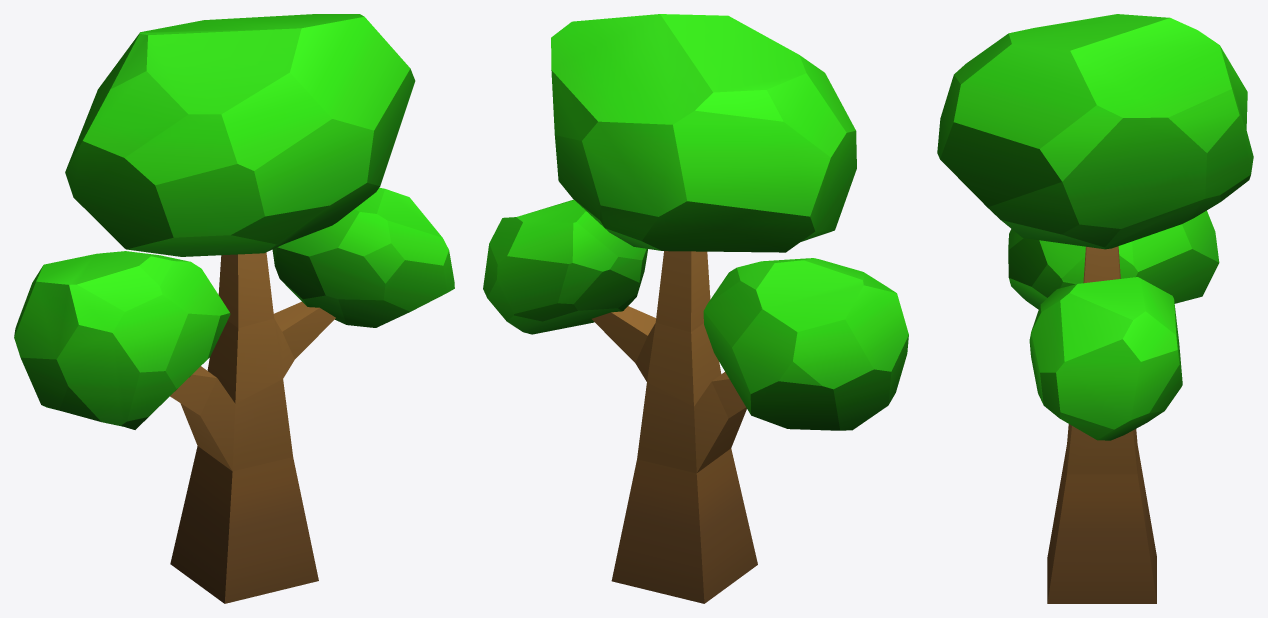
Rendered from Tree1.fbx.
3 renders of one model, left to right at view 1: azimuth 30°, elevation 25°; view 2: azimuth 150°, elevation 25°; view 3: azimuth 270°, elevation 25°, orthographic. The views are drawn at different scales.
Visible parts, largest first — view 1: deciduous tree; view 2: deciduous tree; view 3: deciduous tree.
Part boxes in pixels (bbox=[...]): deciduous tree: bbox=[14, 14, 454, 603]; deciduous tree: bbox=[483, 14, 908, 603]; deciduous tree: bbox=[937, 14, 1253, 603].
Bounding box in the file's own units: 3.6 × 4.58 × 2.39.
